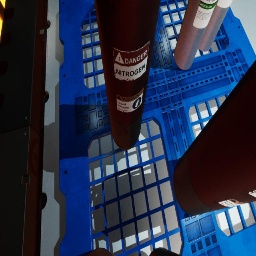0: (174, 0, 218, 70), (198, 0, 233, 52)
NitrogenTank ,: (173, 60, 256, 216), (94, 0, 160, 150), (149, 247, 182, 256), (85, 247, 112, 256)
